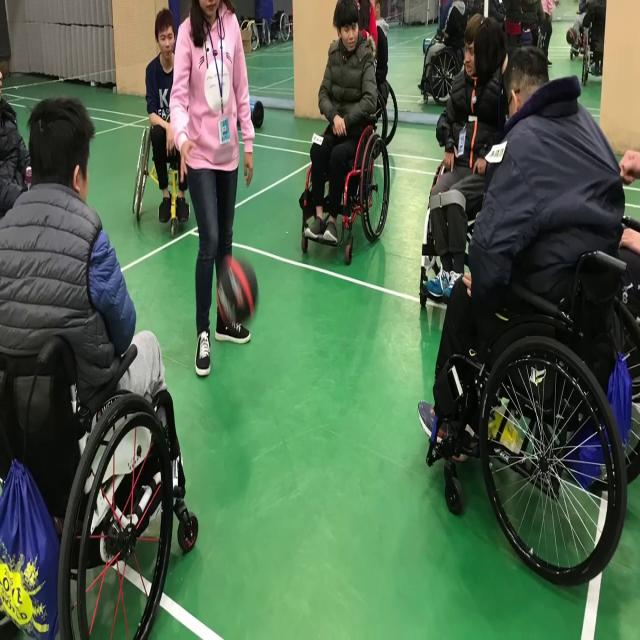wheelchairs: (410, 184, 640, 602), (3, 298, 201, 640), (291, 100, 410, 270), (124, 83, 209, 246), (412, 0, 494, 117)
